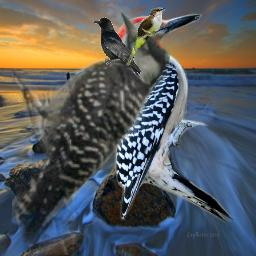Crow: (92, 17, 141, 78)
Cuckoo: (126, 7, 166, 66)
Woodpecker: (12, 1, 170, 255), (103, 5, 243, 238)
